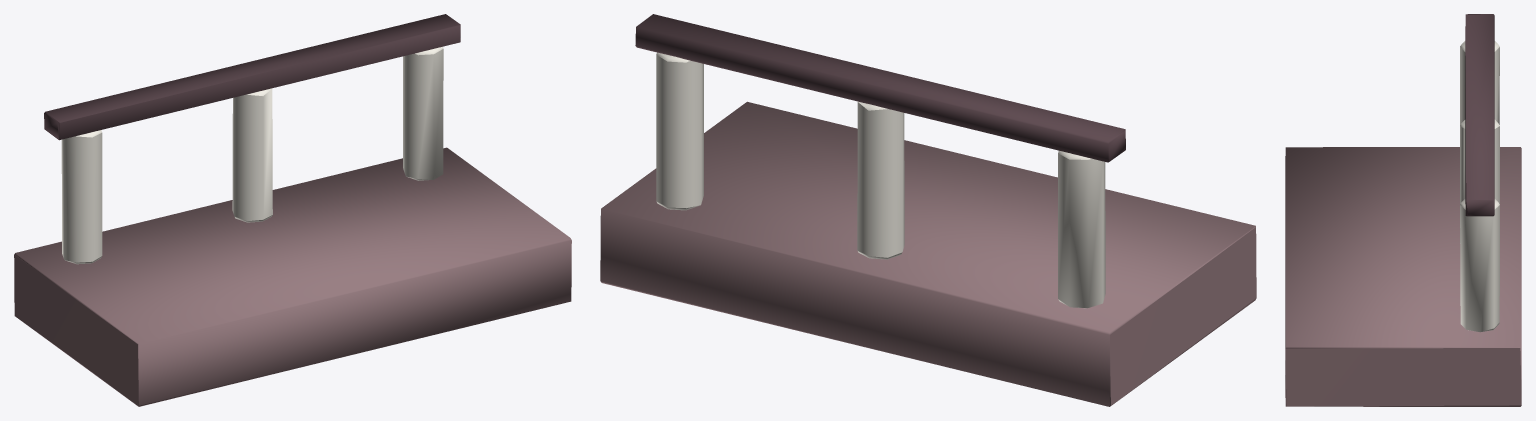
Rendered from SM_Neroberg_Vista_LOD2.fbx.
The picture shows the model from 3 angles, left to right: view 1: azimuth 30°, elevation 25°; view 2: azimuth 150°, elevation 25°; view 3: azimuth 270°, elevation 25°; orthographic projection. The views are drawn at different scales.
Parts seen in each view (by area): view 1: SM_Neroberg_Vista_LOD2; view 2: SM_Neroberg_Vista_LOD2; view 3: SM_Neroberg_Vista_LOD2.
Boxes of the visible parts, <box> form: SM_Neroberg_Vista_LOD2: <box>14,14,571,406</box>; SM_Neroberg_Vista_LOD2: <box>600,14,1256,406</box>; SM_Neroberg_Vista_LOD2: <box>1285,14,1521,406</box>.
Size of the model in its own units: 2.79 by 1.3 by 1.39.
